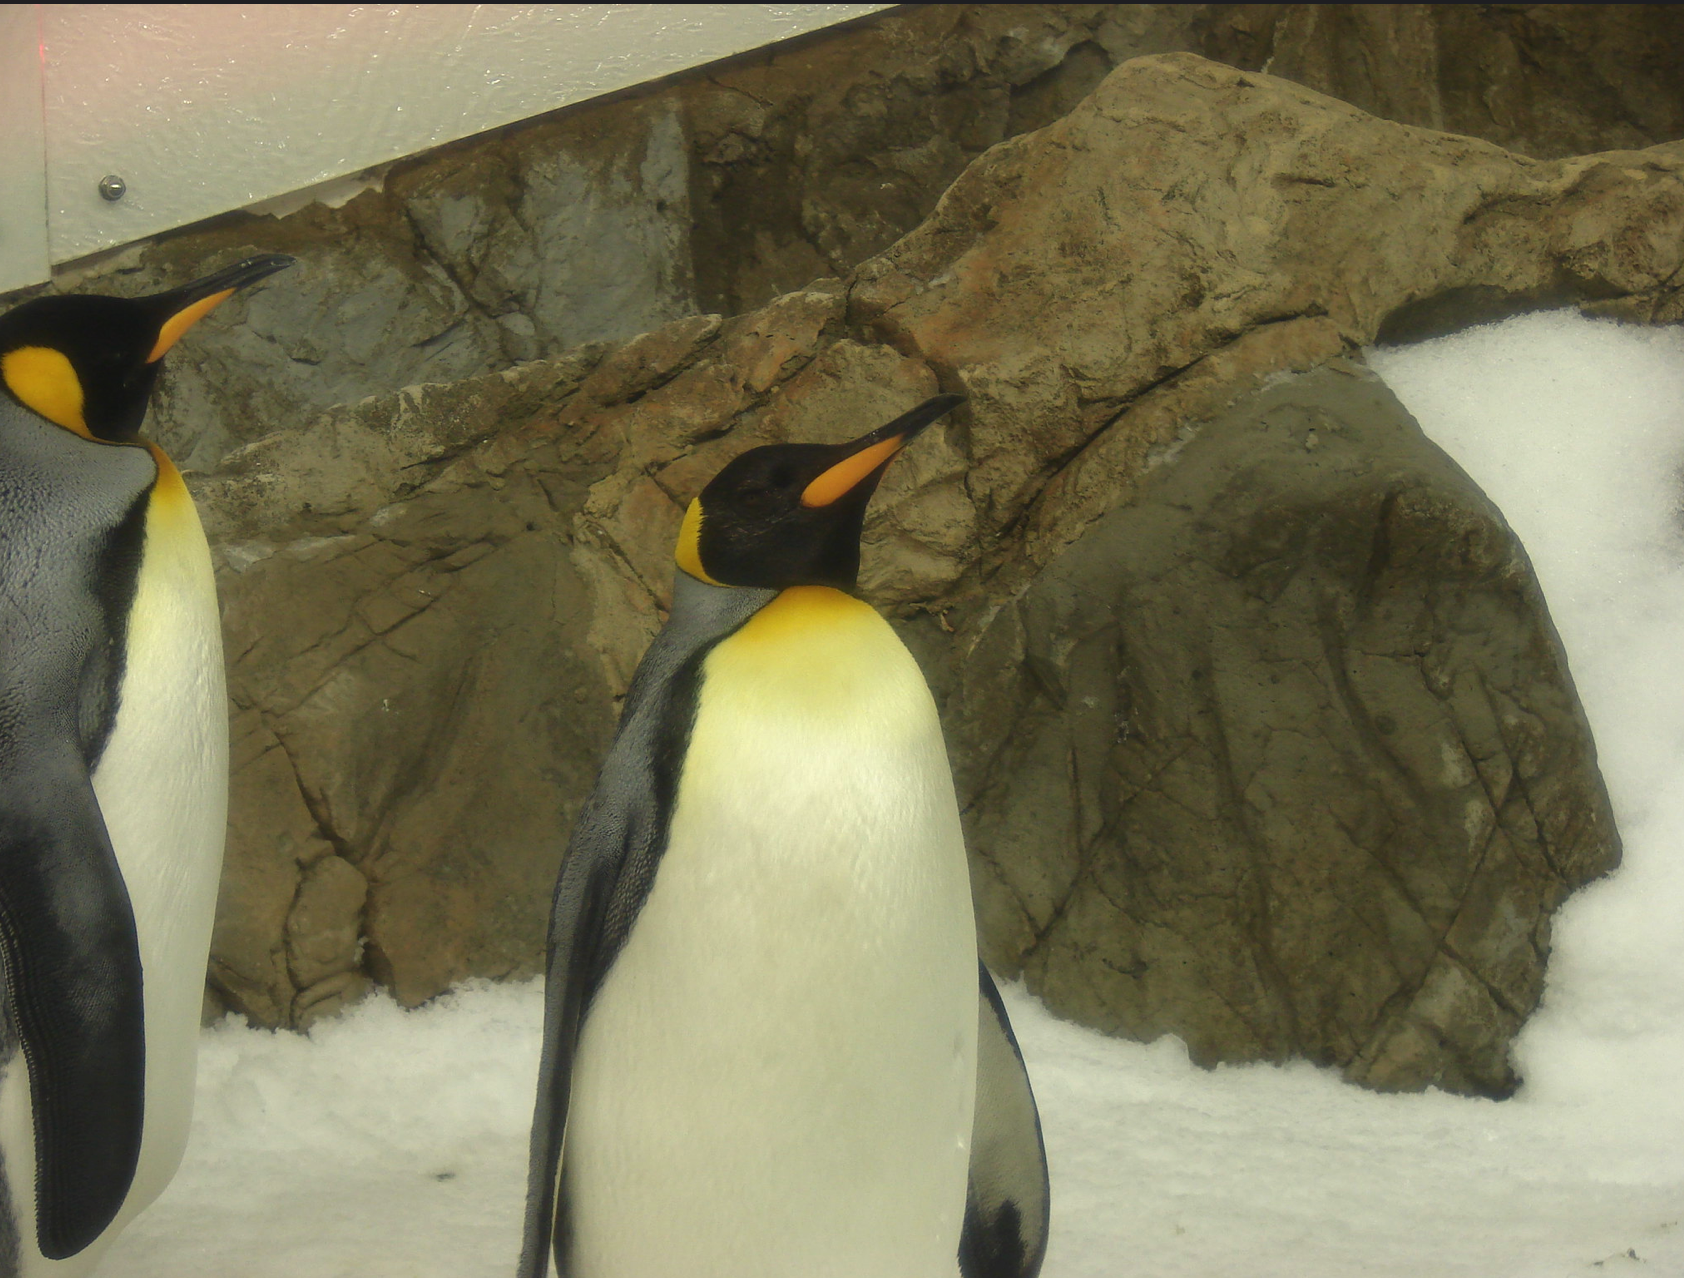penguin: (517, 387, 1127, 1278)
